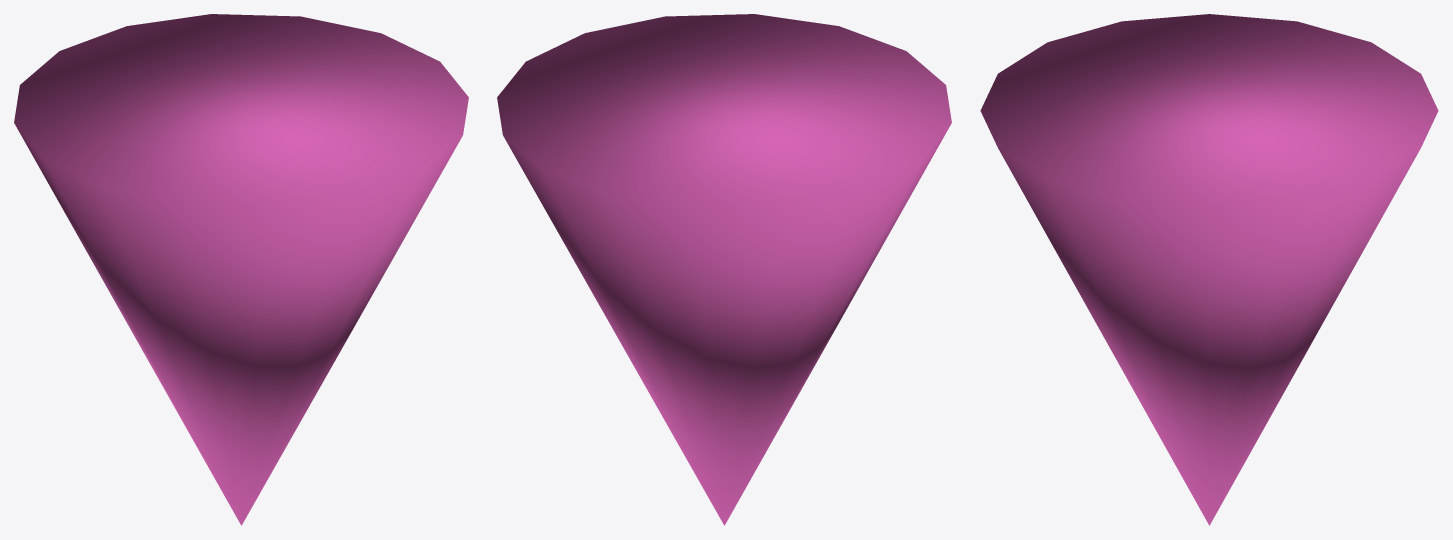
The model's file is ghostIndicator.fbx.
The picture shows the model from 3 angles, left to right: view 1: azimuth 30°, elevation 25°; view 2: azimuth 150°, elevation 25°; view 3: azimuth 270°, elevation 25°; orthographic projection.
Parts seen in each view (by area): view 1: Cone; view 2: Cone; view 3: Cone.
Part boxes in pixels (bbox=[...]): Cone: bbox=[14, 14, 468, 525]; Cone: bbox=[497, 14, 951, 525]; Cone: bbox=[980, 14, 1438, 525].
Size of the model in its own units: 2 by 2 by 2.
